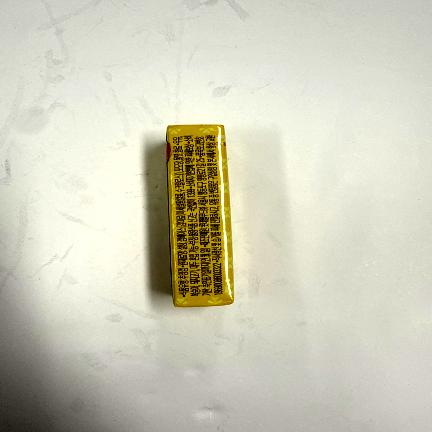gum_yellow: (167, 124, 234, 307)
